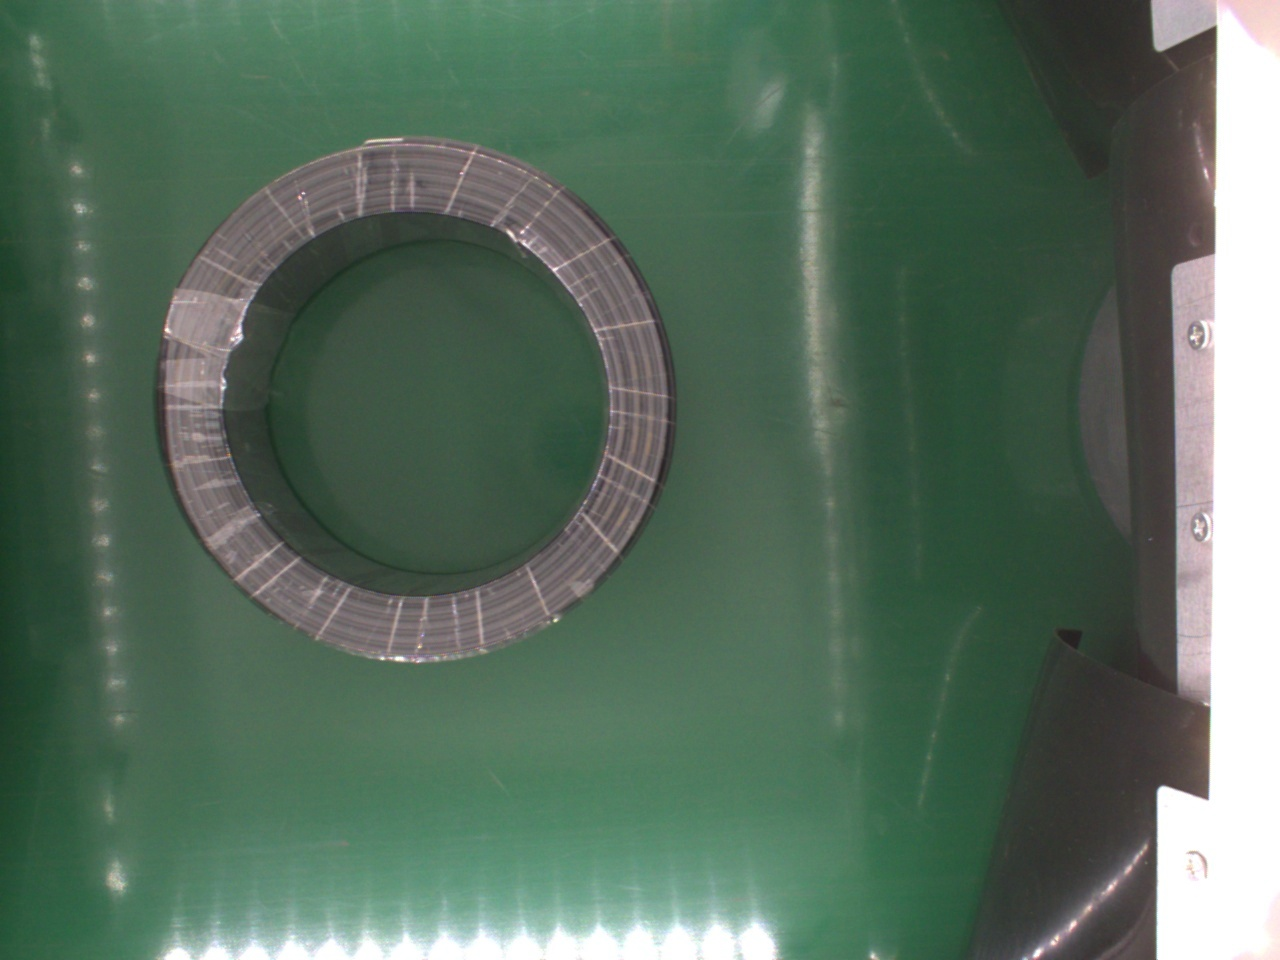black: (143, 138, 680, 679)
